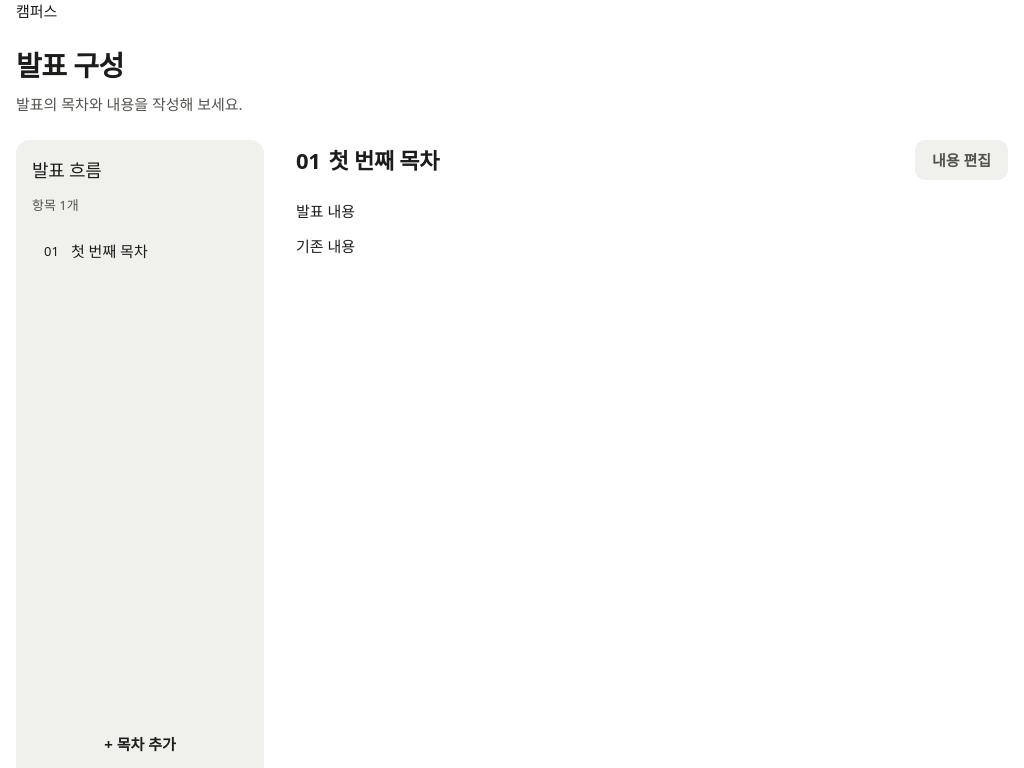
it: 근거를 다시 고정하거나 삭제 연결을 제거할 때 본문 저장 전에 확인한다
Click the button "내용 편집": [961, 160] box [915,140,1008,180]
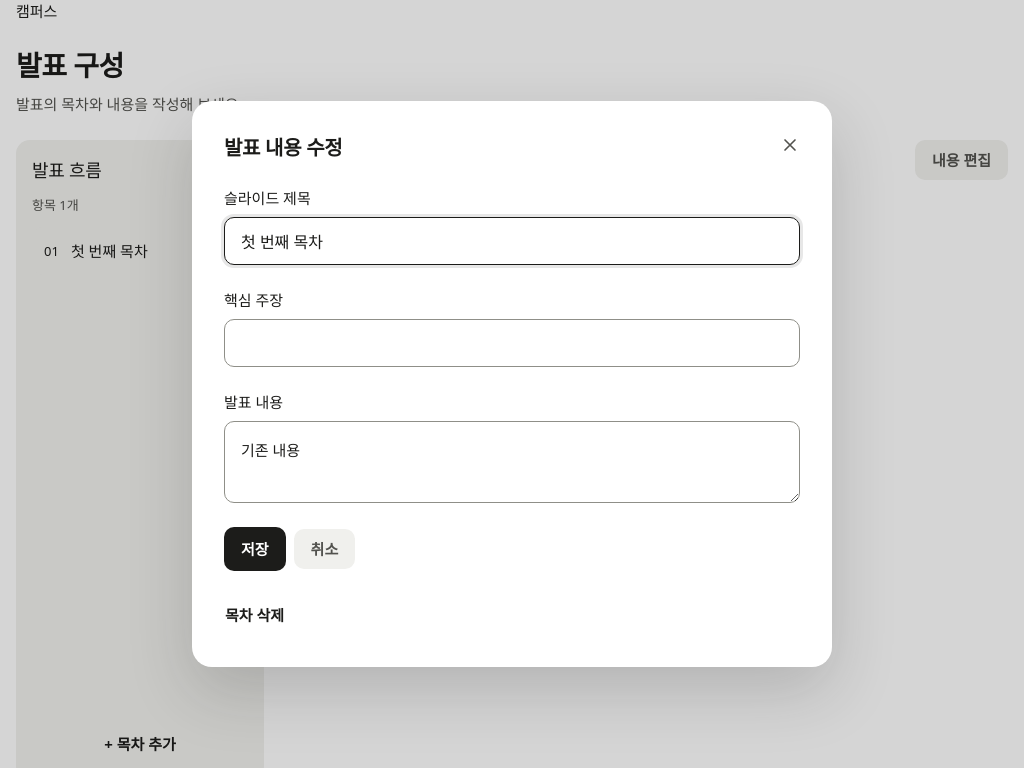
Replace the text in the field labelled "슬라이드 제목" with "새 제목": [512, 241] box [224,217,800,265]
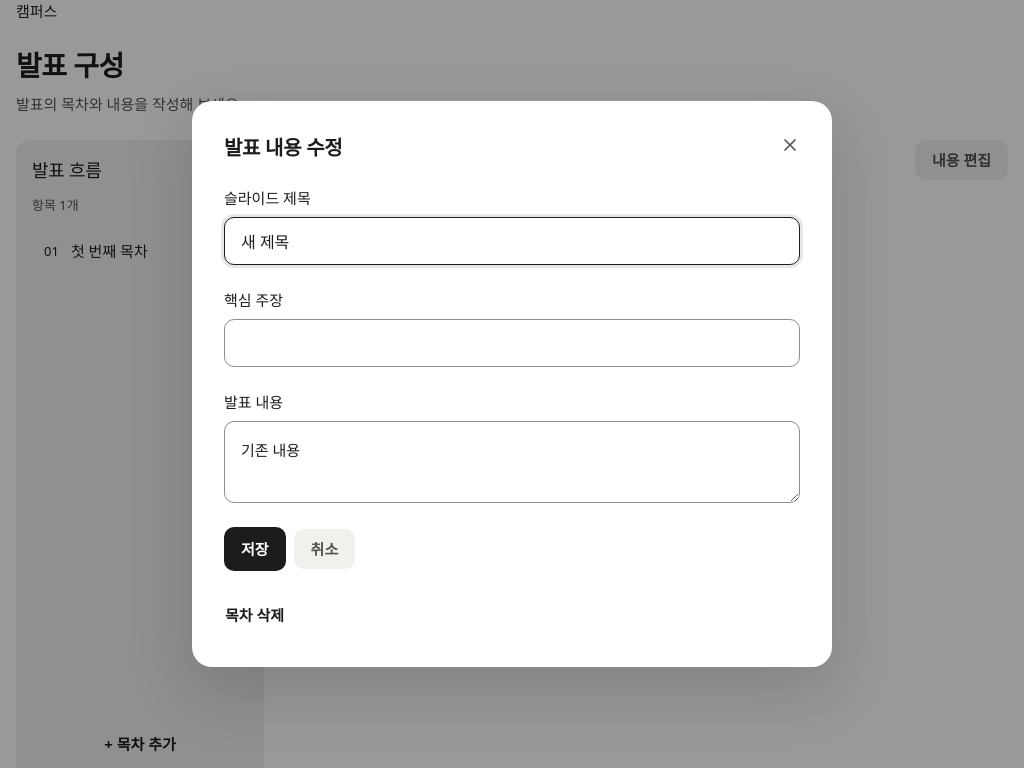
Click the button "저장": [255, 549] box [224,527,286,571]
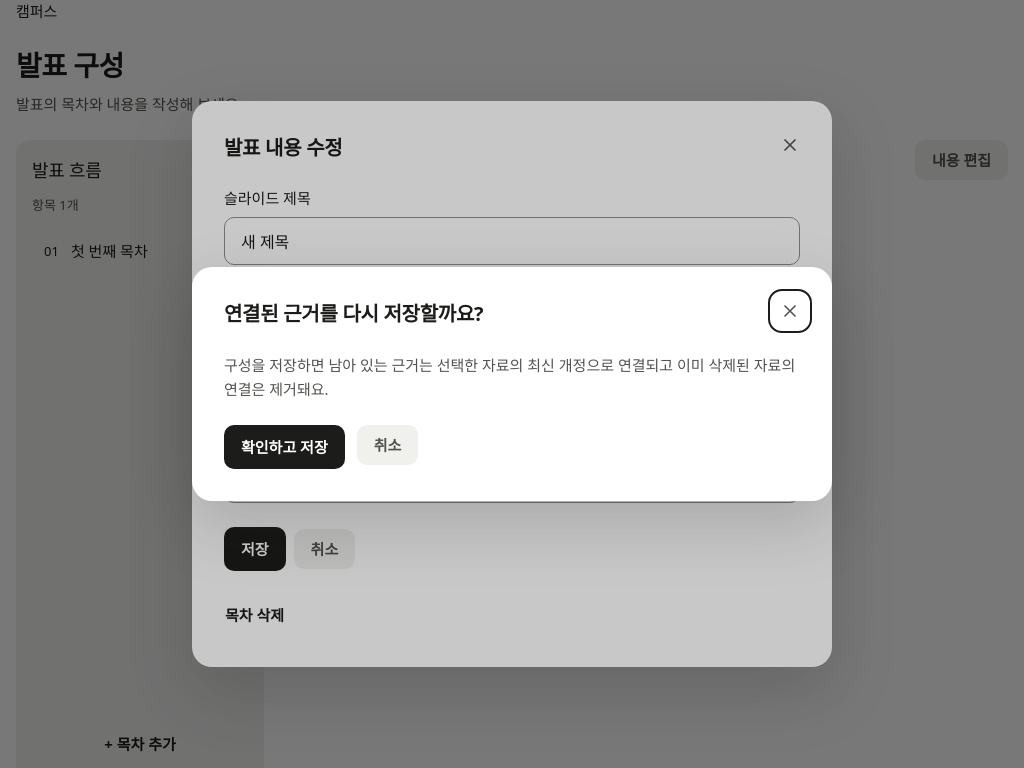
Click the button "확인하고 저장": [284, 447] box [224,425,345,469]
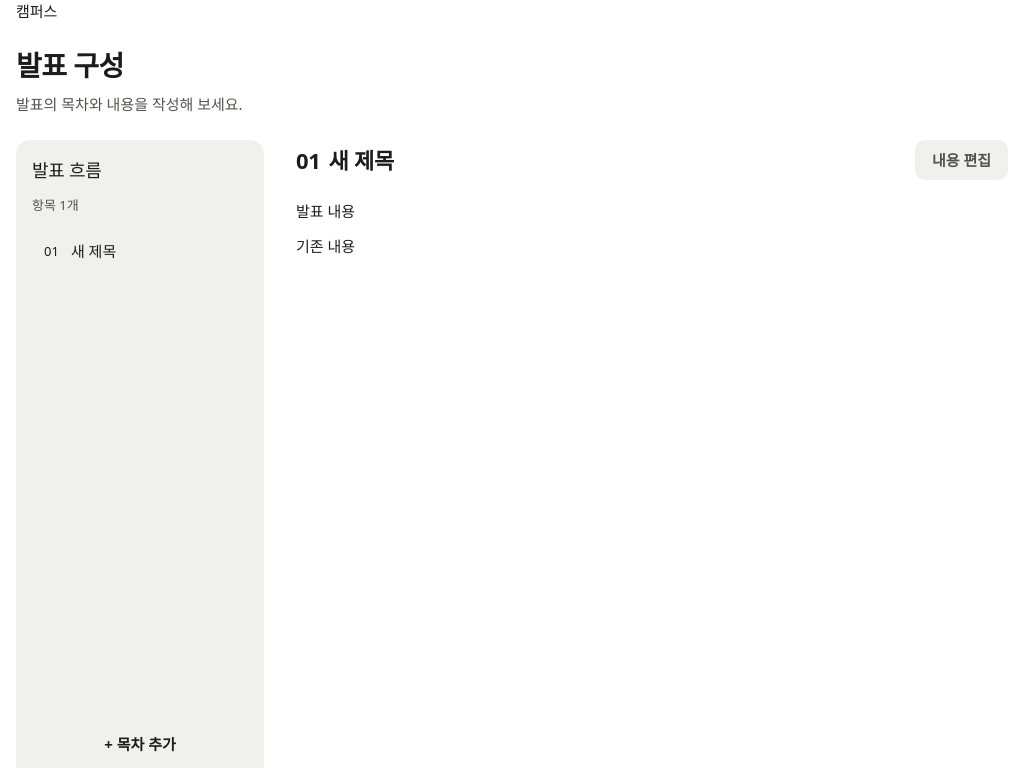
Expected: the heading "01새 제목" is shown, [296,145,394,175]
